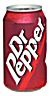grozi_59: (2, 4, 46, 92)
